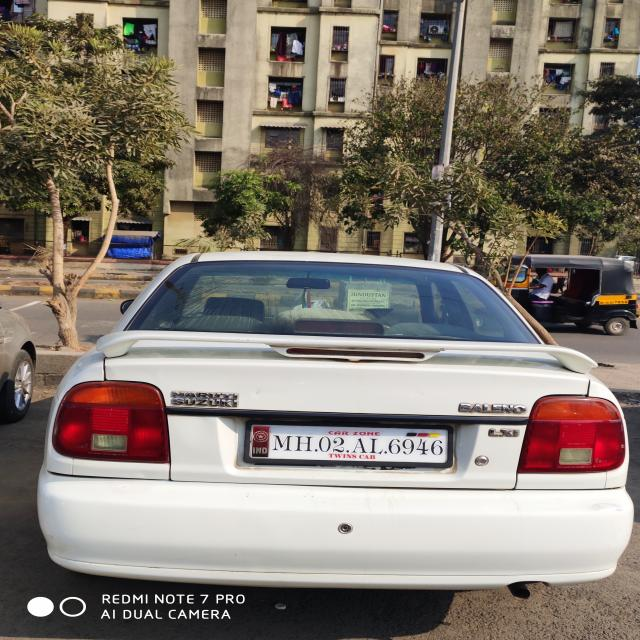Number-Plate: (245, 426, 453, 462)
